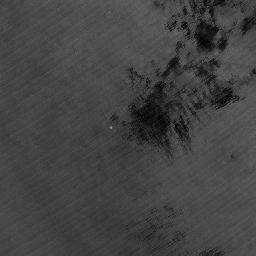Target: (107, 124, 115, 131)
